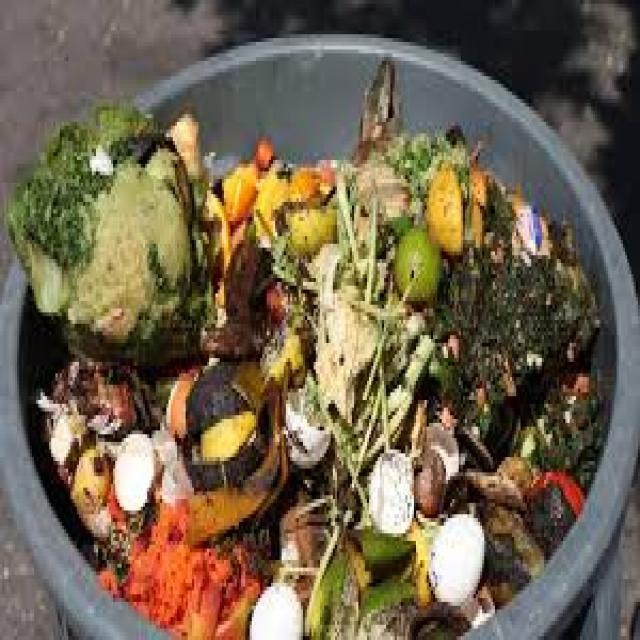Wet: (48, 127, 197, 317), (139, 532, 206, 625), (398, 230, 444, 304), (428, 162, 466, 247)
